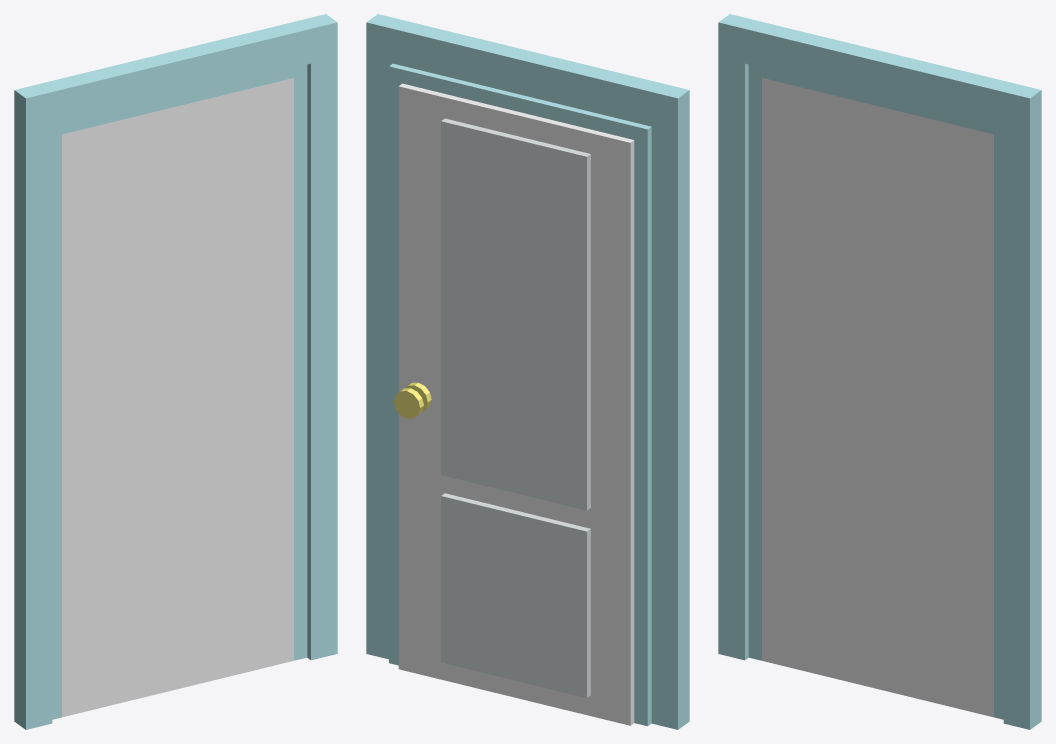
Rendered from Door.glb.
The picture shows the model from 3 angles, left to right: view 1: azimuth 30°, elevation 25°; view 2: azimuth 150°, elevation 25°; view 3: azimuth 330°, elevation 25°; orthographic projection.
Parts seen in each view (by area): view 1: group2071676715, group1215139596; view 2: group2071676715, group1215139596; view 3: group2071676715, group1215139596.
Boxes of the visible parts, x1,y1,x2,y2 form: group2071676715: [62, 78, 293, 717]; group1215139596: [14, 14, 337, 729]; group2071676715: [393, 83, 634, 725]; group1215139596: [366, 14, 689, 729]; group2071676715: [762, 78, 993, 717]; group1215139596: [718, 14, 1041, 729].
Bounding box in the file's own units: 0.47 × 0.91 × 0.08.
